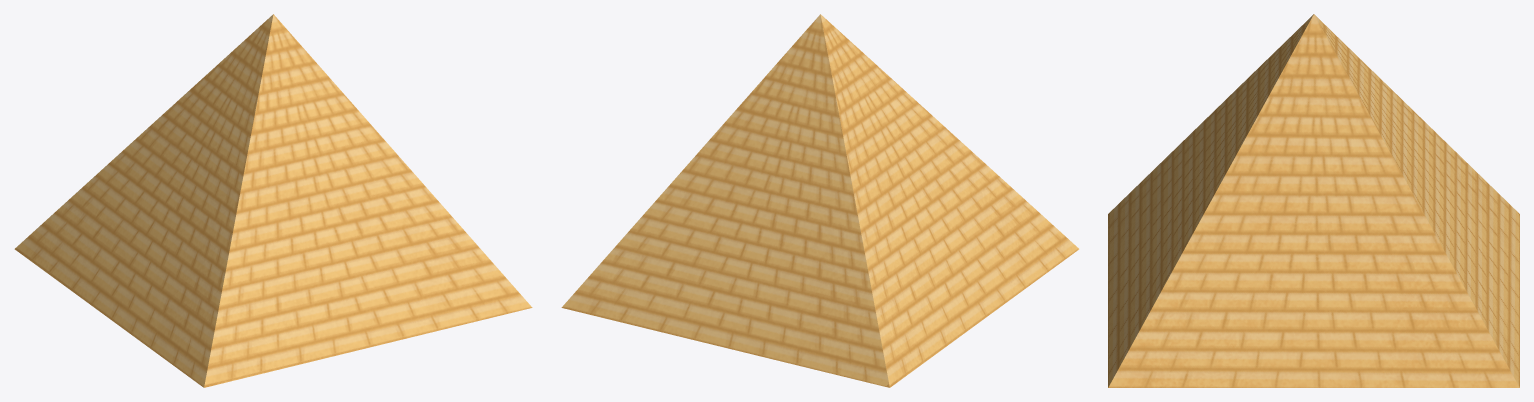
Rendered from PyramidBIG.glb.
3 renders of one model, left to right at view 1: azimuth 30°, elevation 25°; view 2: azimuth 150°, elevation 25°; view 3: azimuth 270°, elevation 25°, orthographic. The views are drawn at different scales.
Visible parts, largest first — view 1: Cube; view 2: Cube; view 3: Cube.
Boxes of the visible parts, left/top/right/bottom form: Cube: left=14, top=14, right=532, bottom=387; Cube: left=561, top=14, right=1079, bottom=387; Cube: left=1108, top=14, right=1519, bottom=387.
Size of the model in its own units: 229 by 176 by 229.
Materials: 1 (1 with a texture image).
